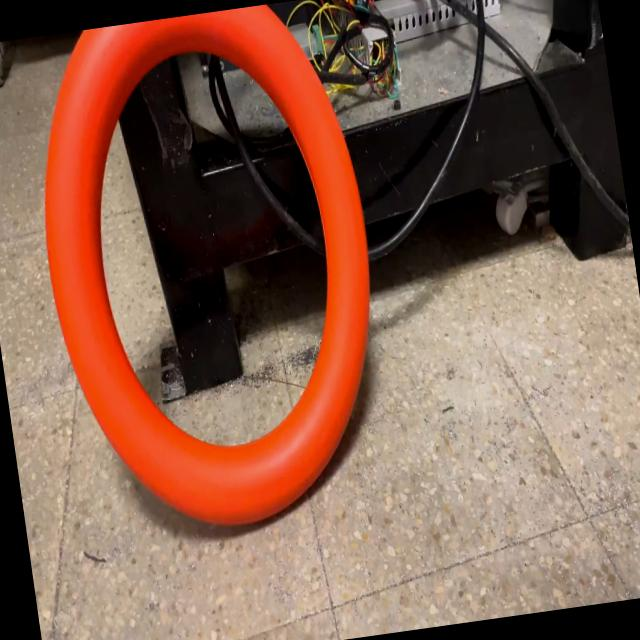note: (15, 0, 406, 551)
